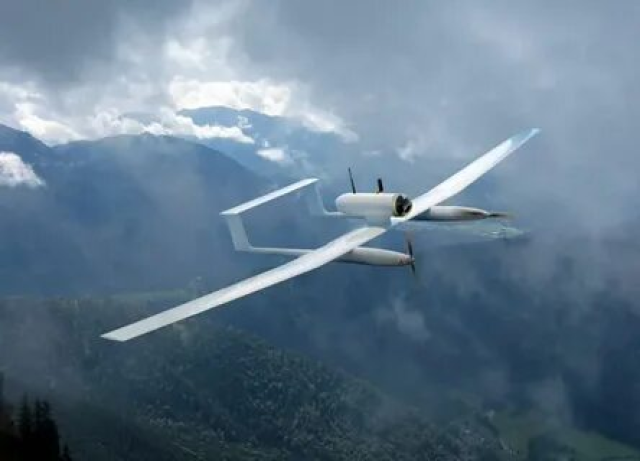military drone: (99, 126, 540, 342)
